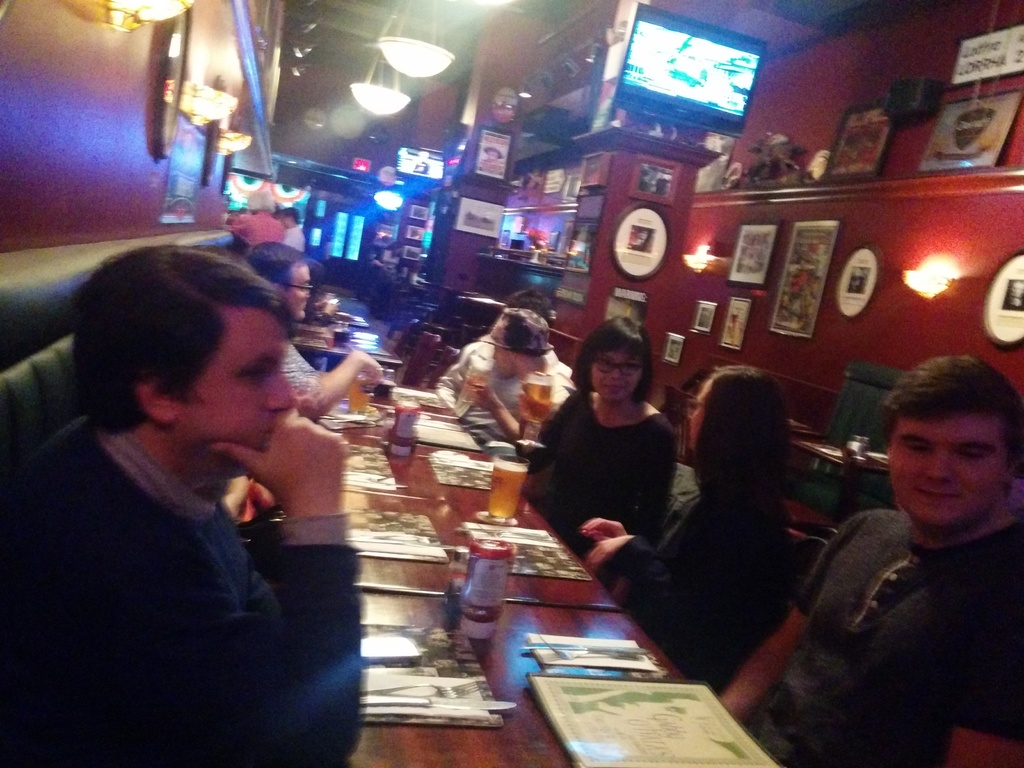Beer: (479, 443, 519, 529), (515, 361, 557, 431), (346, 371, 371, 426)
